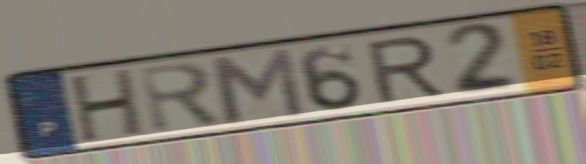2: (440, 20, 522, 100)
6: (295, 42, 365, 113)
H: (69, 65, 147, 146)
M: (204, 45, 309, 126)
R: (135, 58, 227, 136), (362, 32, 447, 106)
